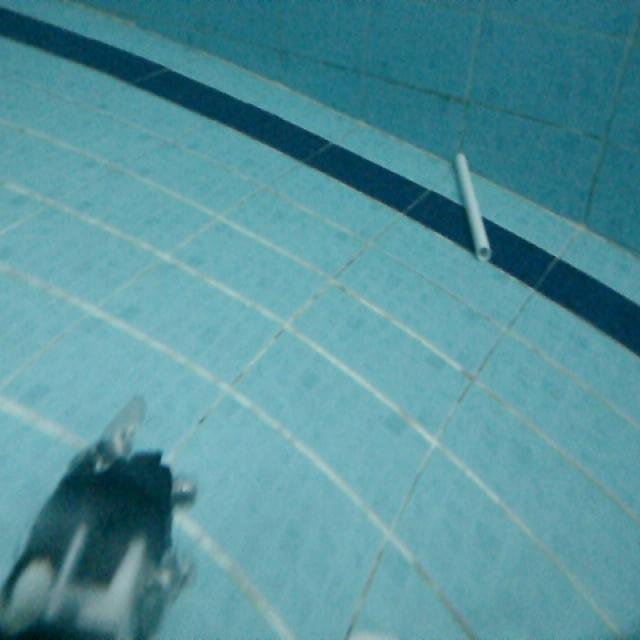Cube: (452, 146, 494, 262)
